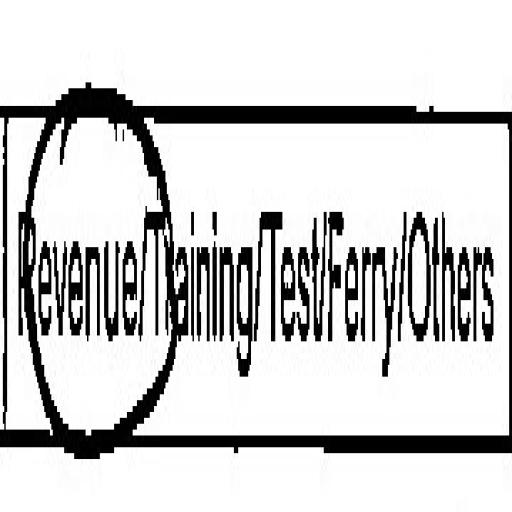check: (0, 37, 147, 512)
